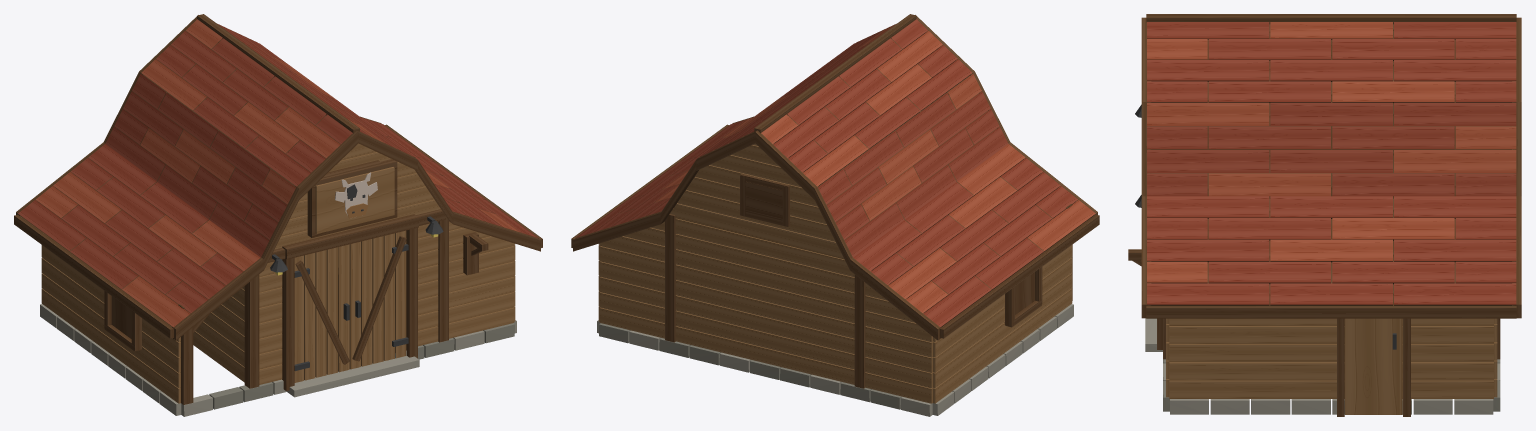
The model's file is BarnExterior_B_Low.fbx.
3 views of the same model, side by side, from view 1: azimuth 30°, elevation 25°; view 2: azimuth 150°, elevation 25°; view 3: azimuth 270°, elevation 25° (orthographic). The views are drawn at different scales.
Visible parts, largest first — view 1: BarnB_Low; view 2: BarnB_Low; view 3: BarnB_Low.
Boxes of the visible parts, left/top/right/bottom form: BarnB_Low: left=14, top=14, right=542, bottom=416; BarnB_Low: left=571, top=14, right=1099, bottom=416; BarnB_Low: left=1128, top=14, right=1521, bottom=416.
Bounding box in the file's own units: 7.86 × 5.1 × 6.06.
